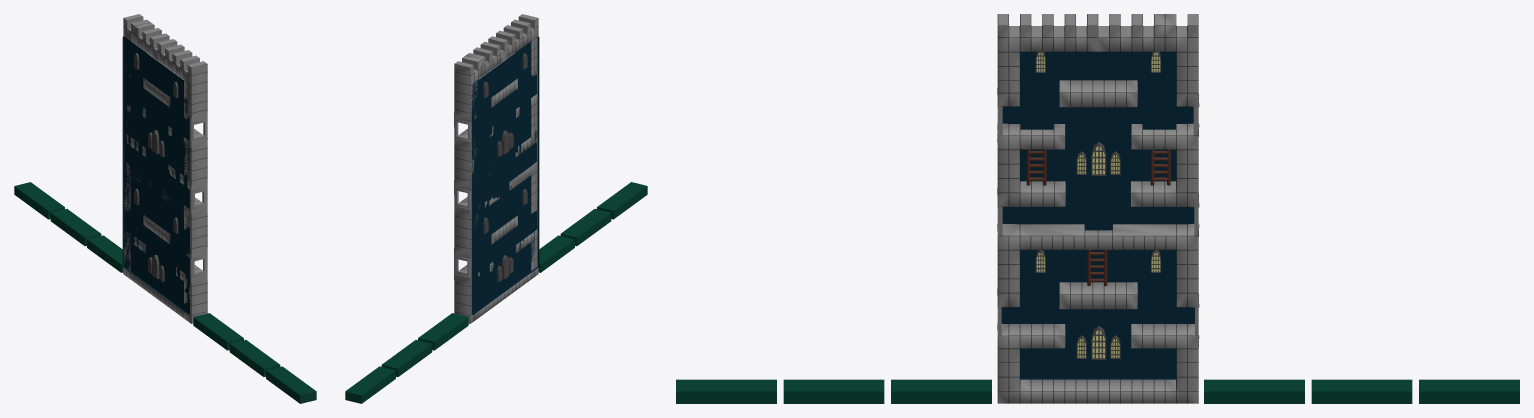
File: game-test6.fbx
3 renders of one model, left to right at view 1: azimuth 30°, elevation 25°; view 2: azimuth 150°, elevation 25°; view 3: azimuth 270°, elevation 25°, orthographic. The views are drawn at different scales.
Parts seen in each view (by area): view 1: fundo, Cube.004, Cube, Cube.002, Cube.008, Cube.007, Cube.001, Cube.006; view 2: fundo, Cube.004, Cube.008, Cube.006, Cube, Cube.001, Cube.007, Cube.002; view 3: Cube.004, fundo, Cube.001, Cube.007, Cube, Cube.002, Cube.006, Cube.008, Cylinder.
Boxes of the visible parts, box(x1,y1,x2,y2) form: fundo: box(122, 36, 189, 314); Cube.004: box(123, 14, 207, 323); Cube: box(266, 366, 316, 403); Cube.002: box(193, 313, 243, 350); Cube.008: box(14, 182, 64, 219); Cube.007: box(50, 209, 101, 246); Cube.001: box(229, 340, 280, 376); Cube.006: box(87, 235, 123, 272); fundo: box(471, 36, 539, 314); Cube.004: box(454, 14, 538, 323); Cube.008: box(345, 366, 395, 403); Cube.006: box(418, 313, 468, 350); Cube: box(597, 182, 647, 219); Cube.001: box(560, 208, 611, 245); Cube.007: box(381, 340, 432, 376); Cube.002: box(538, 235, 574, 272); Cube.004: box(997, 14, 1199, 403); fundo: box(1001, 51, 1194, 379); Cube.001: box(783, 379, 884, 403); Cube.007: box(1311, 379, 1412, 403); Cube: box(676, 379, 776, 403); Cube.002: box(891, 379, 991, 403); Cube.006: box(1204, 379, 1304, 403); Cube.008: box(1419, 379, 1519, 403); Cylinder: box(1026, 149, 1170, 286).
Size of the model in its own units: 152 by 1924 by 3889.
